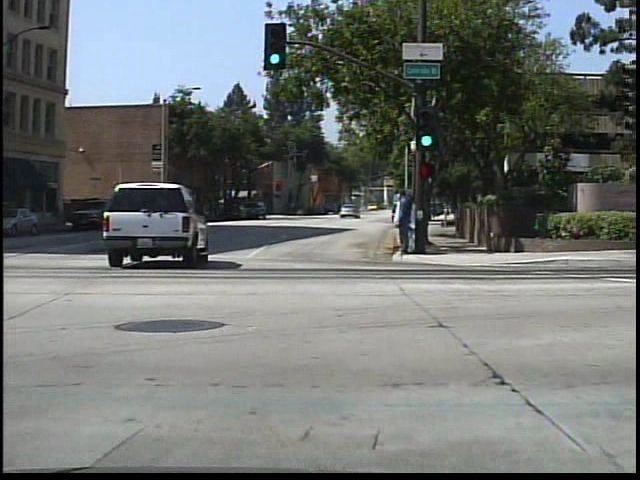person: (393, 186, 414, 257), (391, 192, 410, 256)
